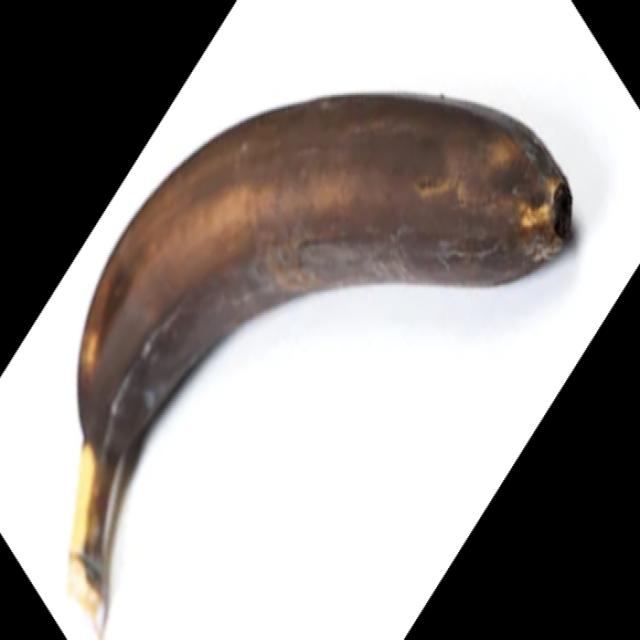Rotten: (64, 91, 574, 602)
